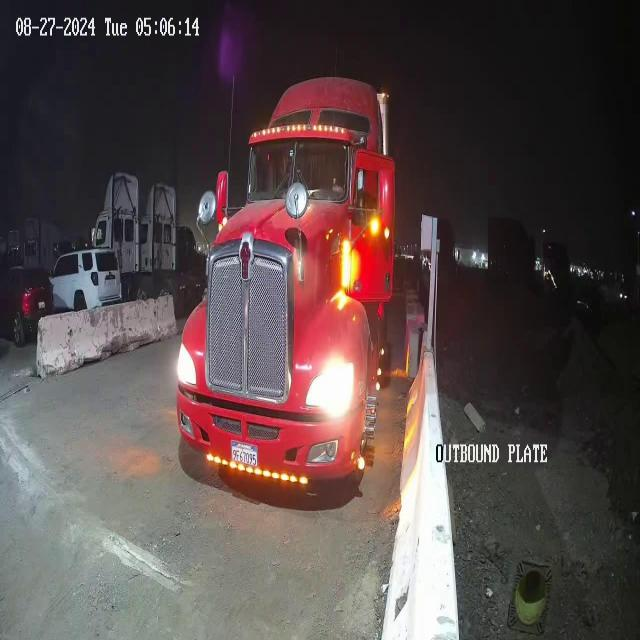TRUCK_OUT: (176, 74, 397, 498)
